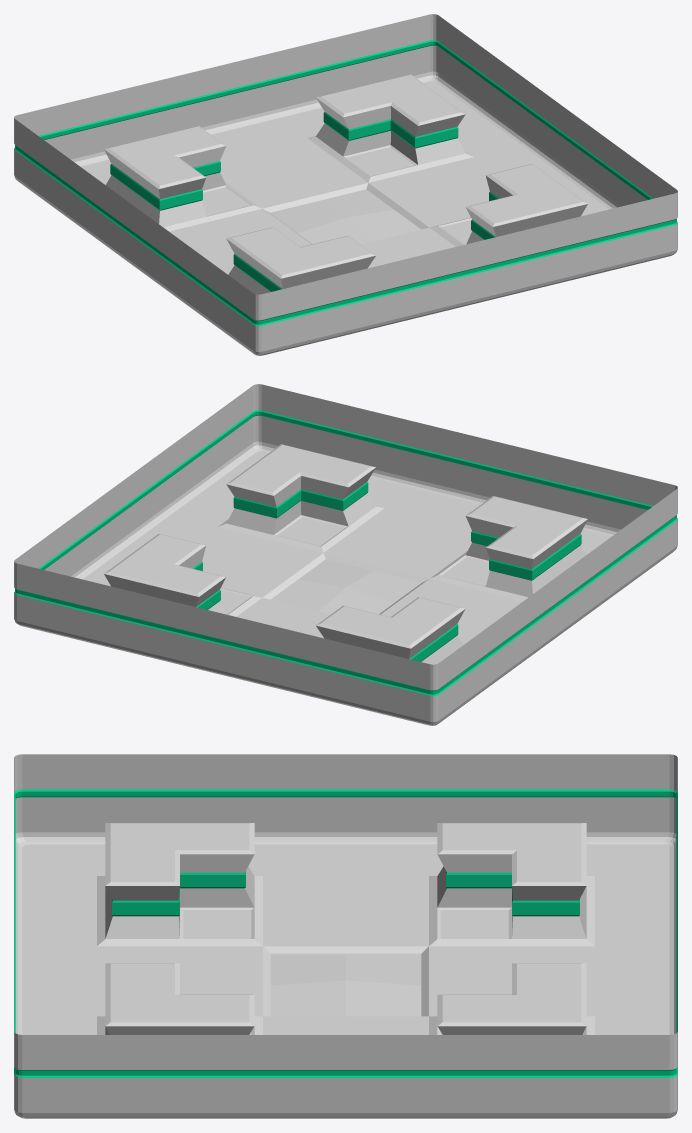
The model's file is 565Env1.fbx.
3 renders of one model, top to bottom at view 1: azimuth 30°, elevation 25°; view 2: azimuth 150°, elevation 25°; view 3: azimuth 270°, elevation 25°, orthographic. The views are drawn at different scales.
Visible parts, largest first — view 1: Plane; view 2: Plane; view 3: Plane.
Part boxes in pixels (x1=…): Plane: x1=14, y1=14, x2=677, y2=355; Plane: x1=14, y1=384, x2=677, y2=725; Plane: x1=14, y1=754, x2=677, y2=1118.
Bounding box in the file's own units: 800 × 121 × 800.
